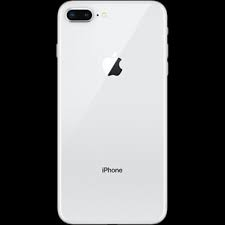iphone: (52, 1, 170, 225)
